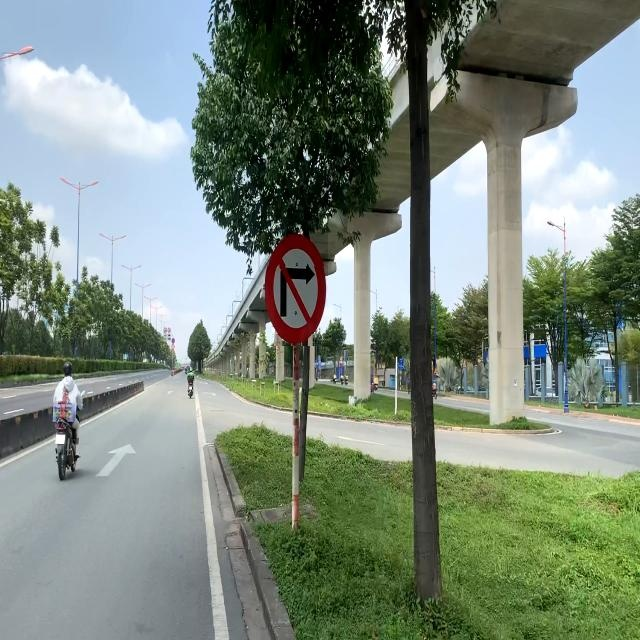bien_cam: (265, 232, 328, 346)
